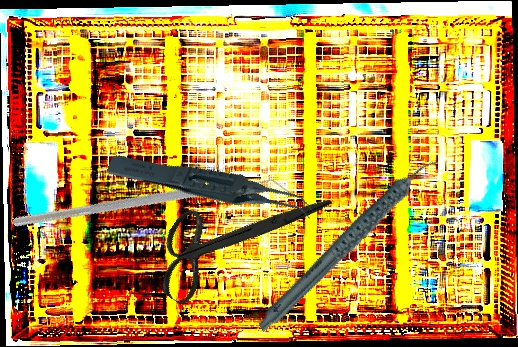Chopper: (11, 70, 293, 346)
Handpiece: (231, 156, 468, 335)
Iris Scissors: (138, 135, 333, 343)
Tissue Forceps: (105, 115, 317, 263)
